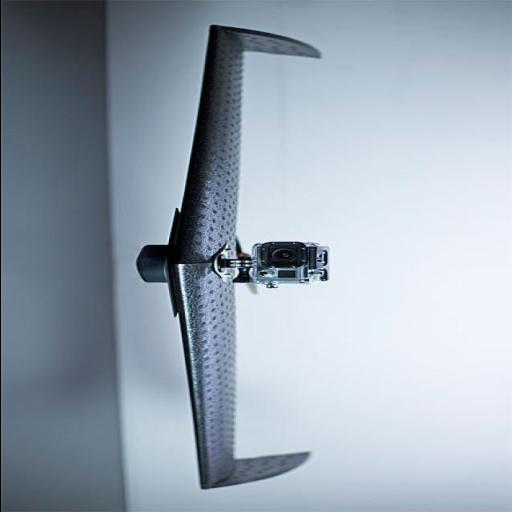uav: (136, 14, 334, 498)
